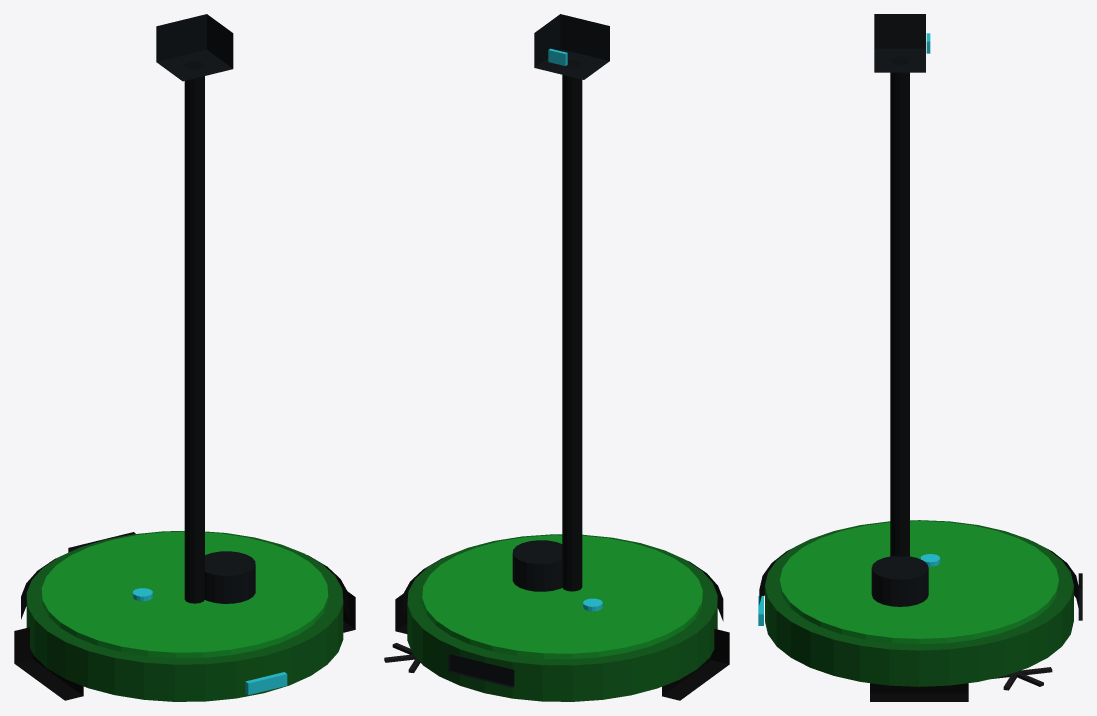
File: robot_green_h120.obj
3 renders of one model, left to right at view 1: azimuth 30°, elevation 25°; view 2: azimuth 150°, elevation 25°; view 3: azimuth 270°, elevation 25°, orthographic. The views are drawn at different scales.
Visible parts, largest first — view 1: low_poly_robot_vacuum; view 2: low_poly_robot_vacuum; view 3: low_poly_robot_vacuum.
Part boxes in pixels (x1,y1,x2,y2): low_poly_robot_vacuum: (14, 14, 355, 701); low_poly_robot_vacuum: (384, 14, 729, 701); low_poly_robot_vacuum: (758, 14, 1082, 701).
Bounding box in the file's own units: 0.596 × 1.22 × 0.592.
